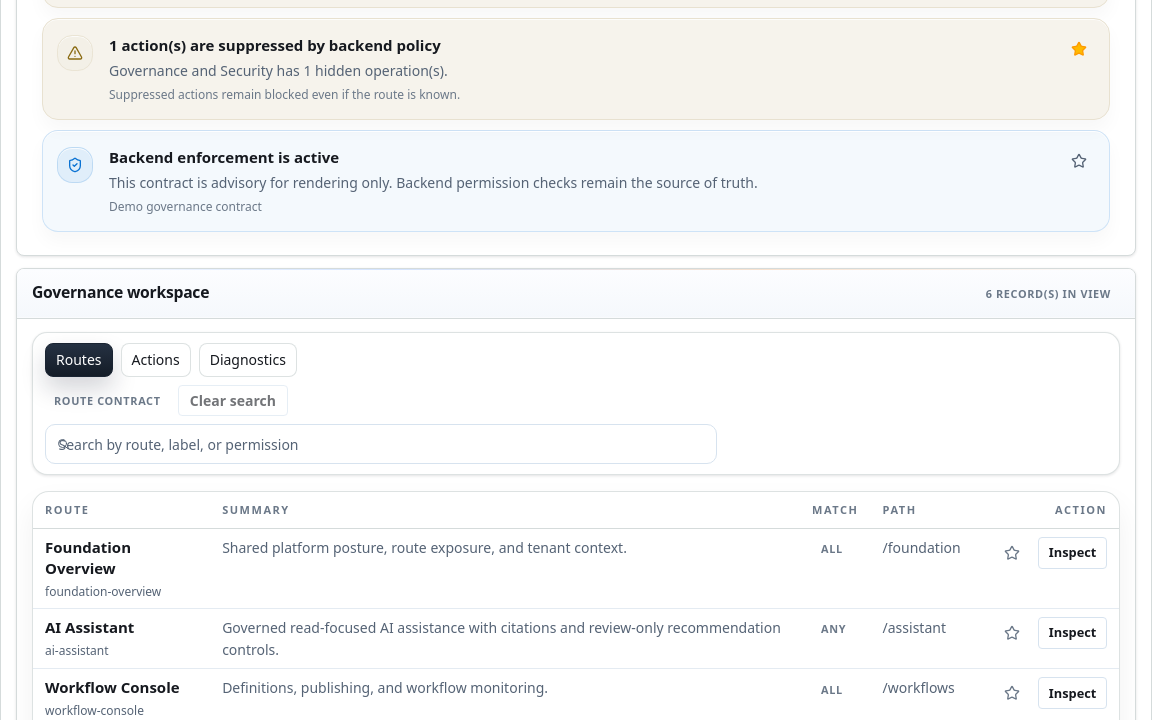
AccessContractPage › switches between navigation, action, and diagnostic contract views
The image size is (1152, 720).
(page scrolled)
Check: the text "Foundation Overview" is shown, box [45,537,131,578]
What coordinates should you click on to do the following:
click the tab "Actions"
I would click on:
 (156, 360)
Its box is [120,343,191,377].
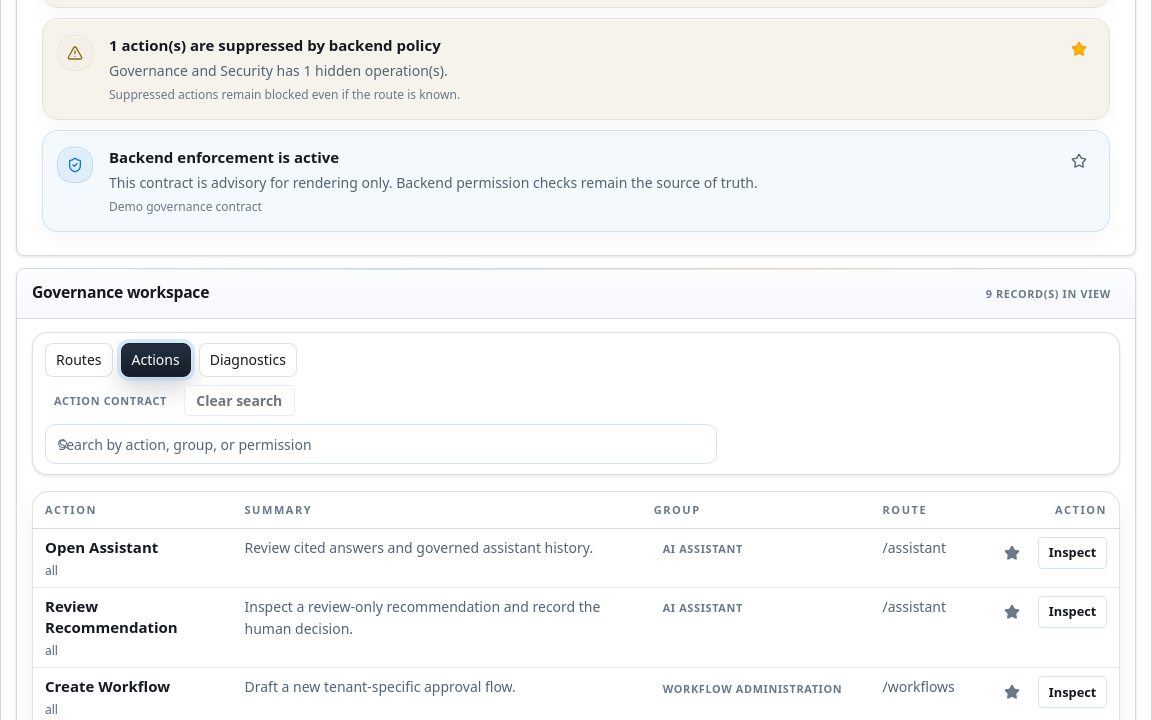
Check: the text "Foundation Overview" is gone
What coordinates should you click on to do the following:
click the tab "Diagnostics"
I would click on:
 (248, 360)
Its box is [199,343,297,377].
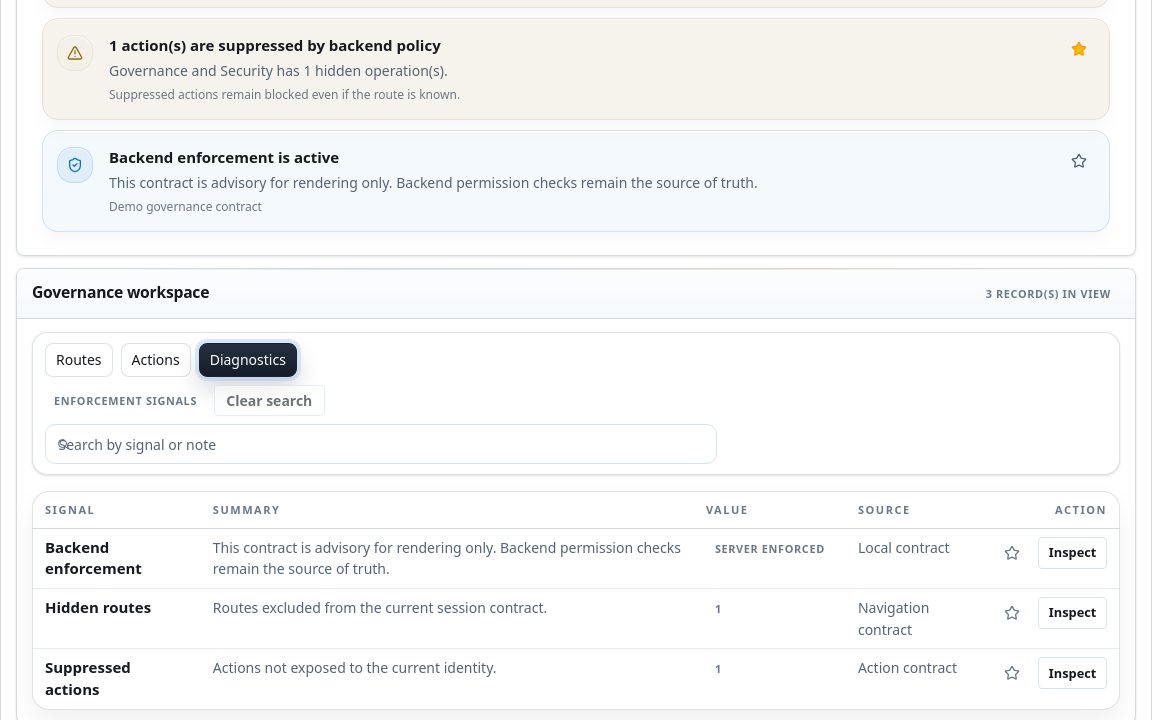
Check: the text "Backend enforcement" is shown, box [45,537,142,578]
Check: the text "Server enforced" is shown, box [706,537,834,560]
